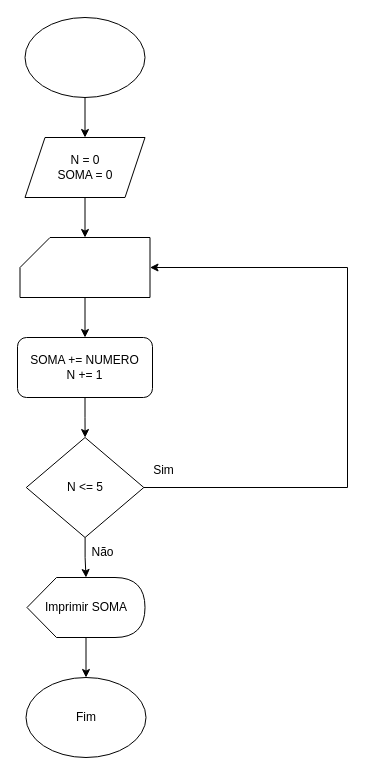
This 373x775 diagram has some shape labels left out. The shapes that lost their labels are listed below. From the top down, each one's centre as x and y in pixels, then its label:
pixel 84 57: Inicio
pixel 84 267: ler NUMERO
